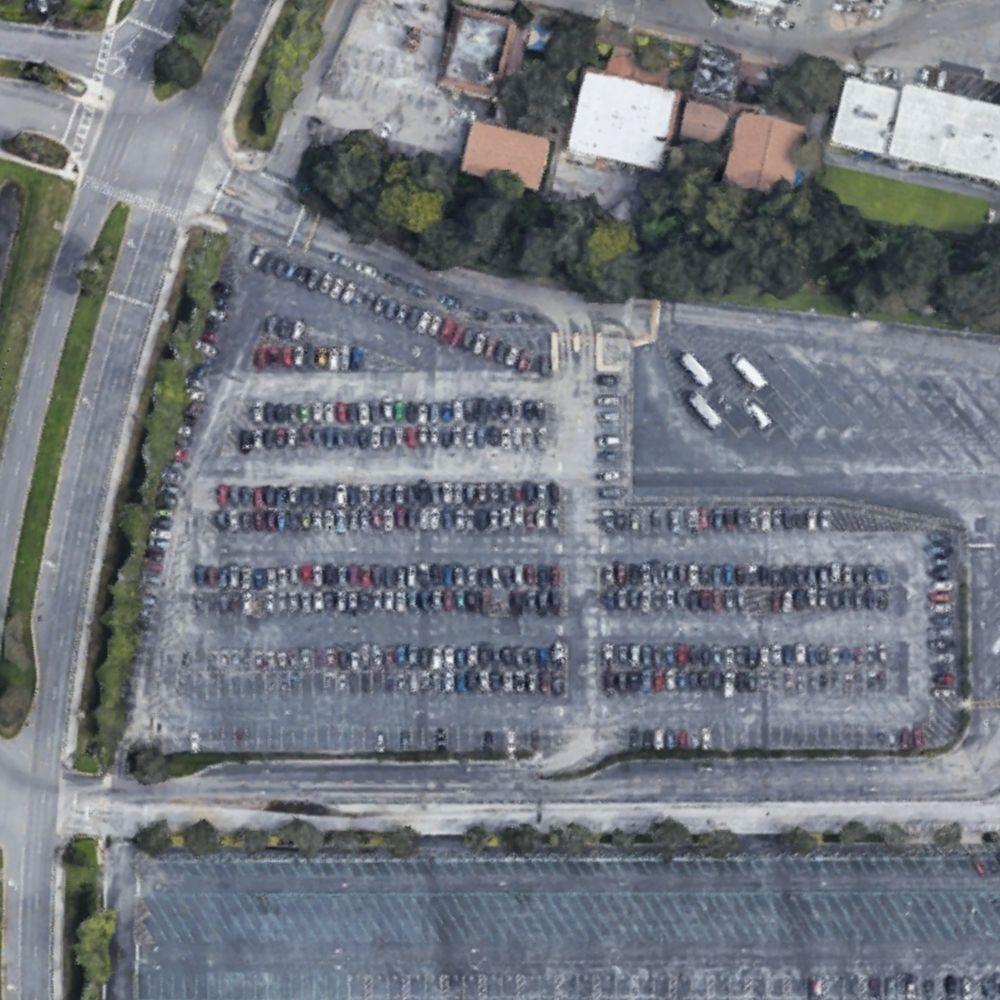parking: (120, 235, 960, 750)
